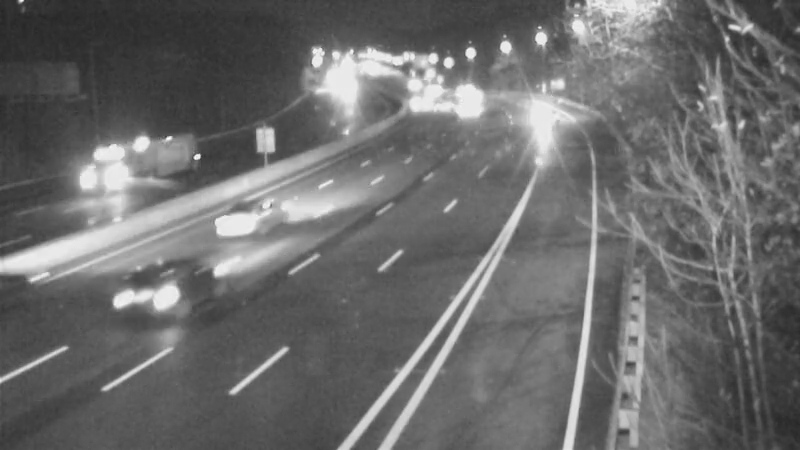vehicle: (200, 185, 280, 265), (120, 254, 200, 334), (62, 136, 142, 216), (432, 62, 482, 112), (445, 72, 495, 122), (393, 81, 443, 131), (416, 78, 466, 128), (445, 87, 495, 137), (525, 94, 575, 144)
